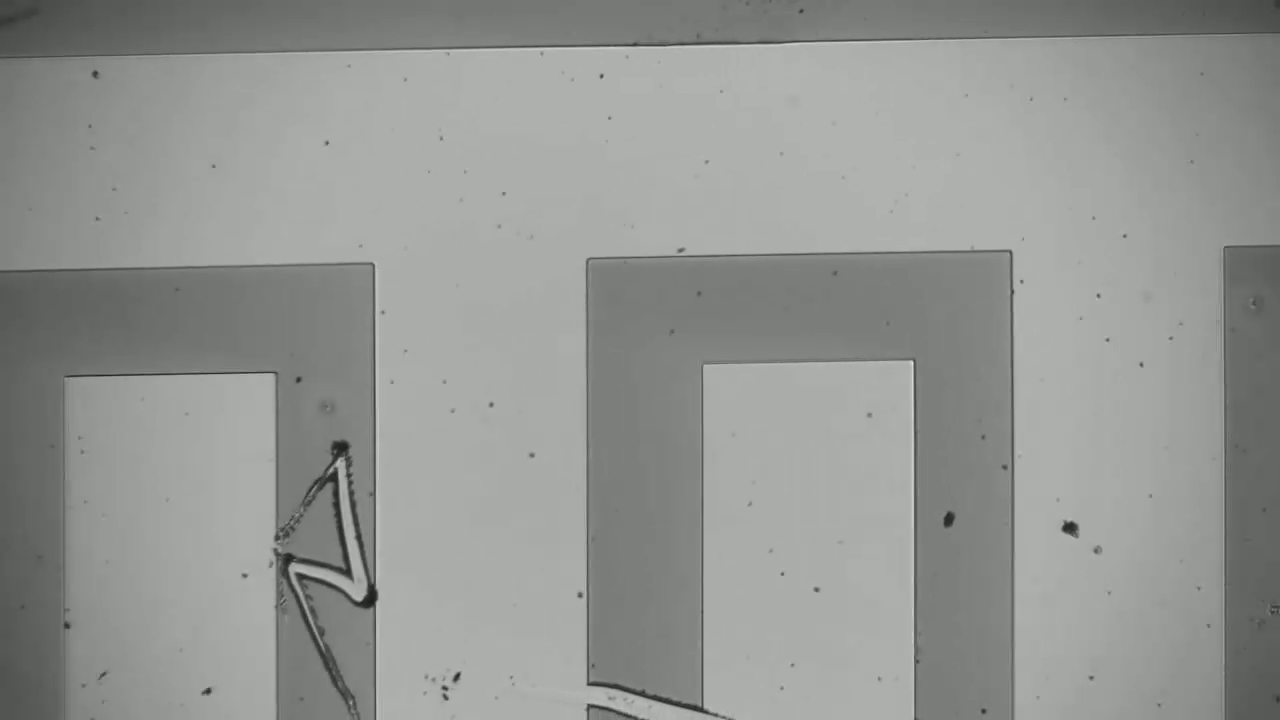Short_circuit: (531, 658, 732, 720), (251, 548, 392, 618)
